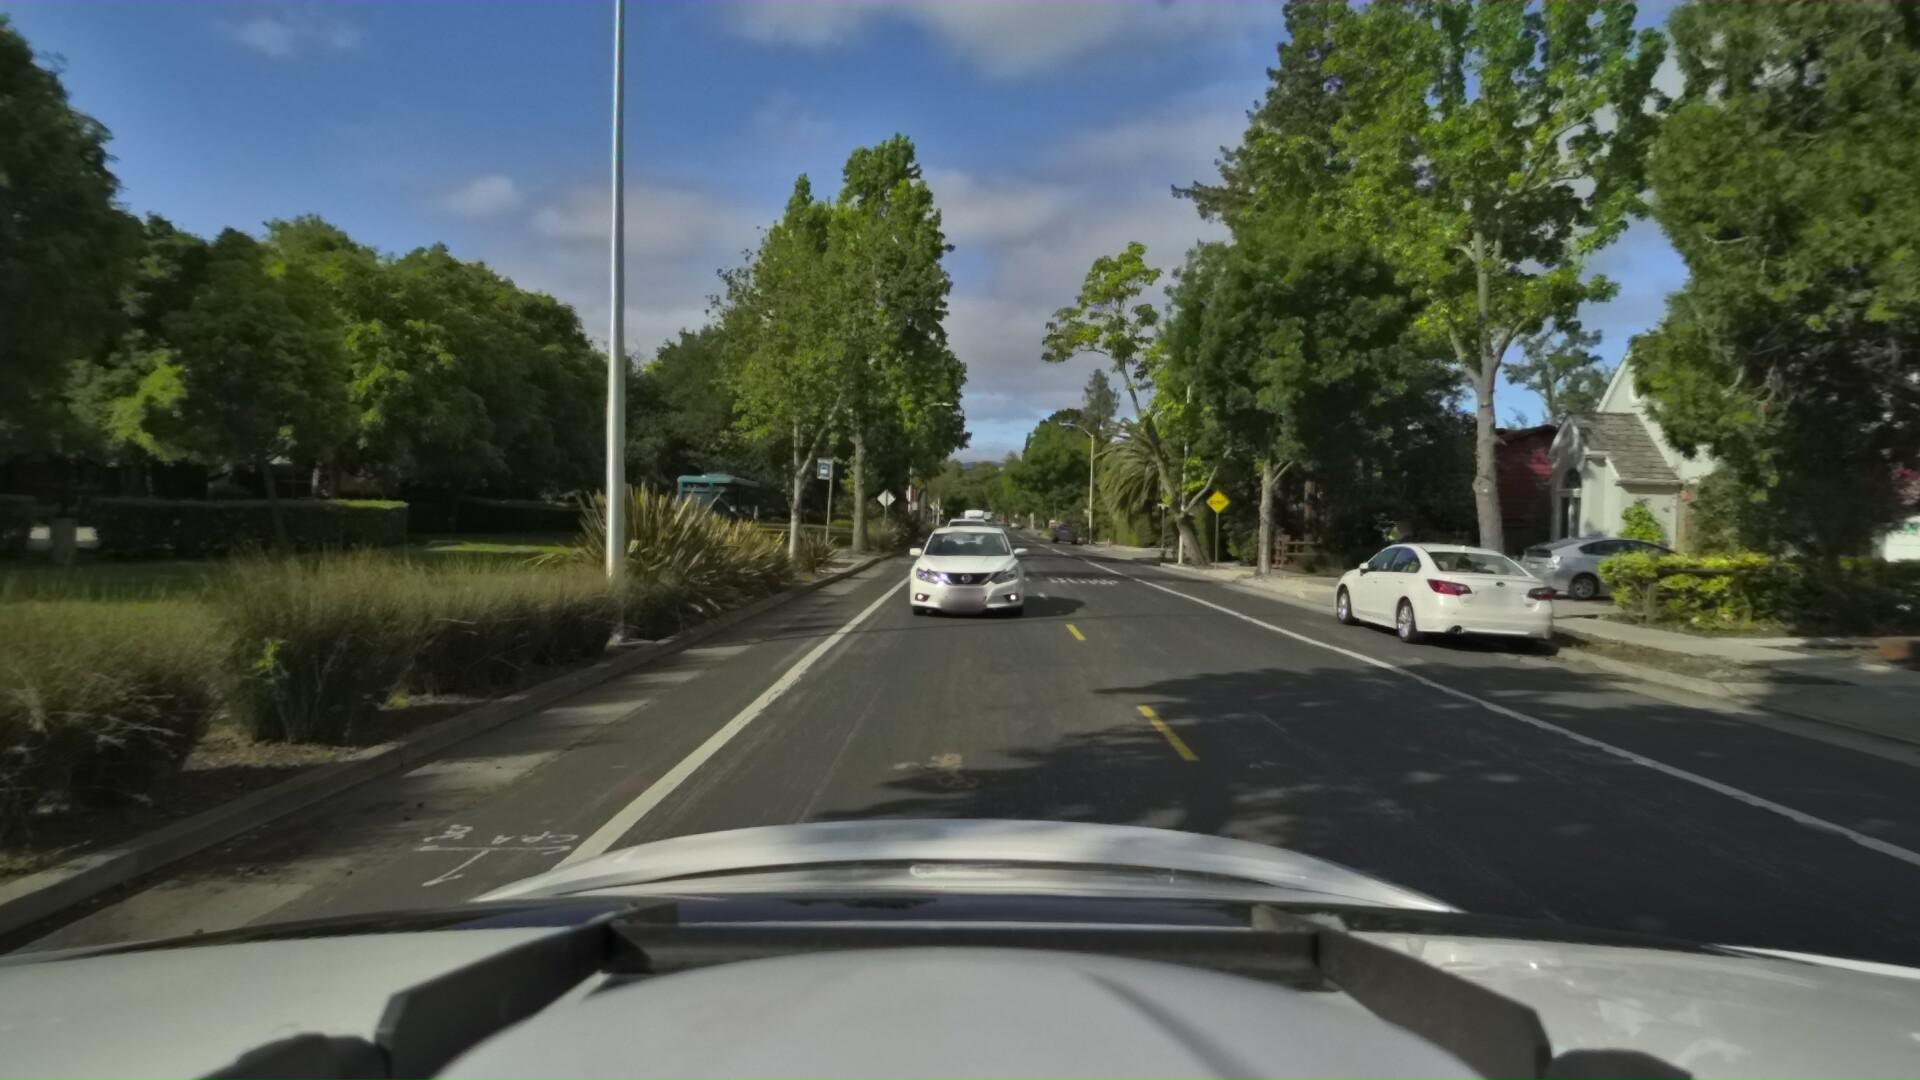car: (1319, 535, 1548, 655), (1495, 527, 1708, 601), (895, 516, 1034, 624), (938, 512, 993, 563), (1050, 518, 1083, 545)
